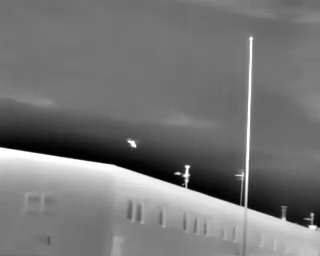HELICOPTER: (124, 135, 143, 153)
